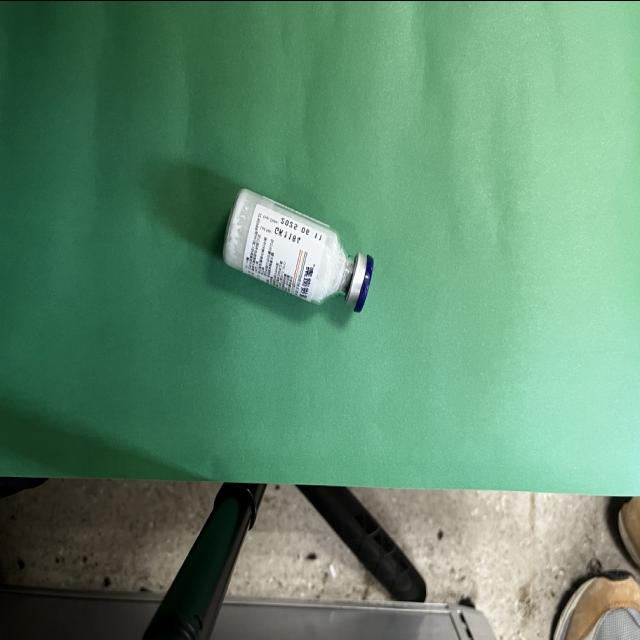Vials: (223, 187, 374, 311)
